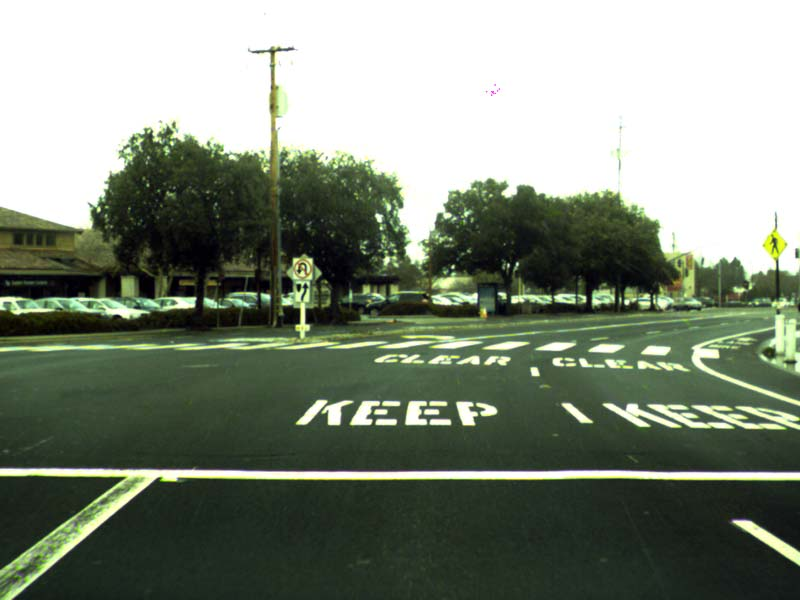Red: (743, 280, 747, 289)
